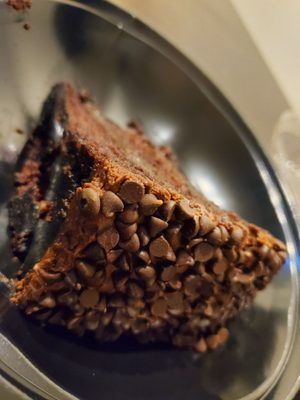soup: (1, 79, 293, 393)
